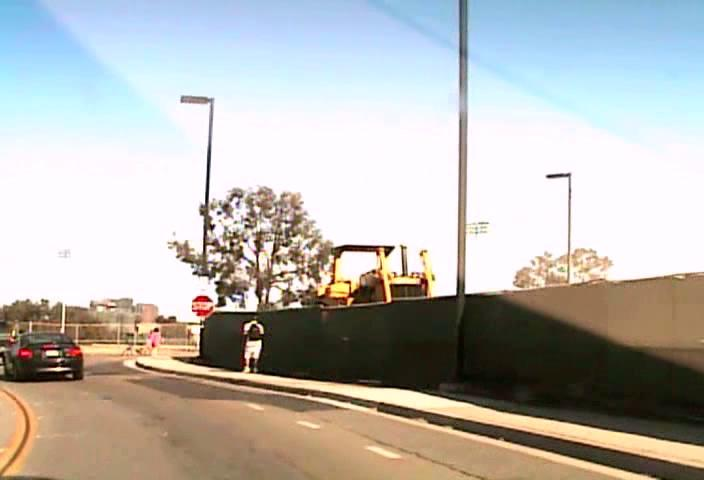stop: (190, 294, 214, 317)
